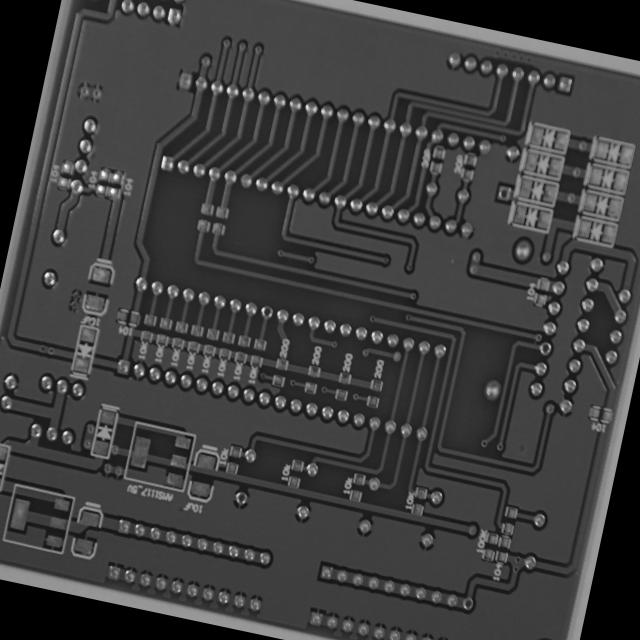missing_hole: (457, 592, 478, 614), (257, 301, 276, 322), (496, 182, 514, 204), (536, 338, 554, 358), (233, 490, 248, 508)
